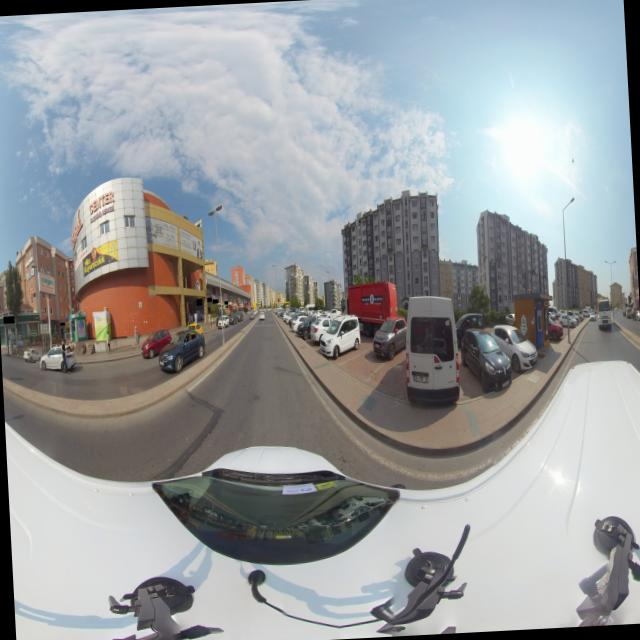SignStore: (3, 316, 15, 324), (196, 299, 202, 306), (212, 300, 219, 303), (207, 298, 212, 302), (224, 301, 228, 305), (60, 323, 65, 326)
